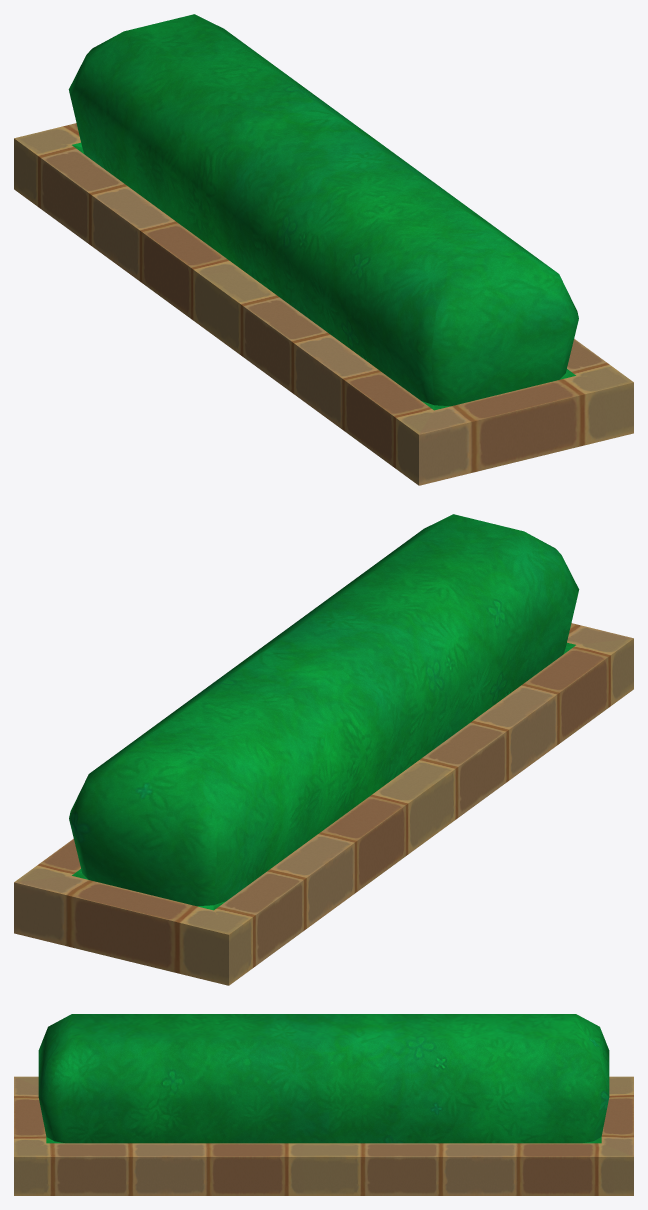
File: Plant01_e04.FBX
3 renders of one model, top to bottom at view 1: azimuth 30°, elevation 25°; view 2: azimuth 150°, elevation 25°; view 3: azimuth 270°, elevation 25°, orthographic. The views are drawn at different scales.
Parts seen in each view (by area): view 1: Plant01_e04; view 2: Plant01_e04; view 3: Plant01_e04.
Part boxes in pixels (bbox=[...]): Plant01_e04: bbox=[14, 14, 633, 485]; Plant01_e04: bbox=[14, 514, 633, 985]; Plant01_e04: bbox=[14, 1014, 633, 1195].
Size of the model in its own units: 208 by 155 by 678.
2 materials, 2 textured.
